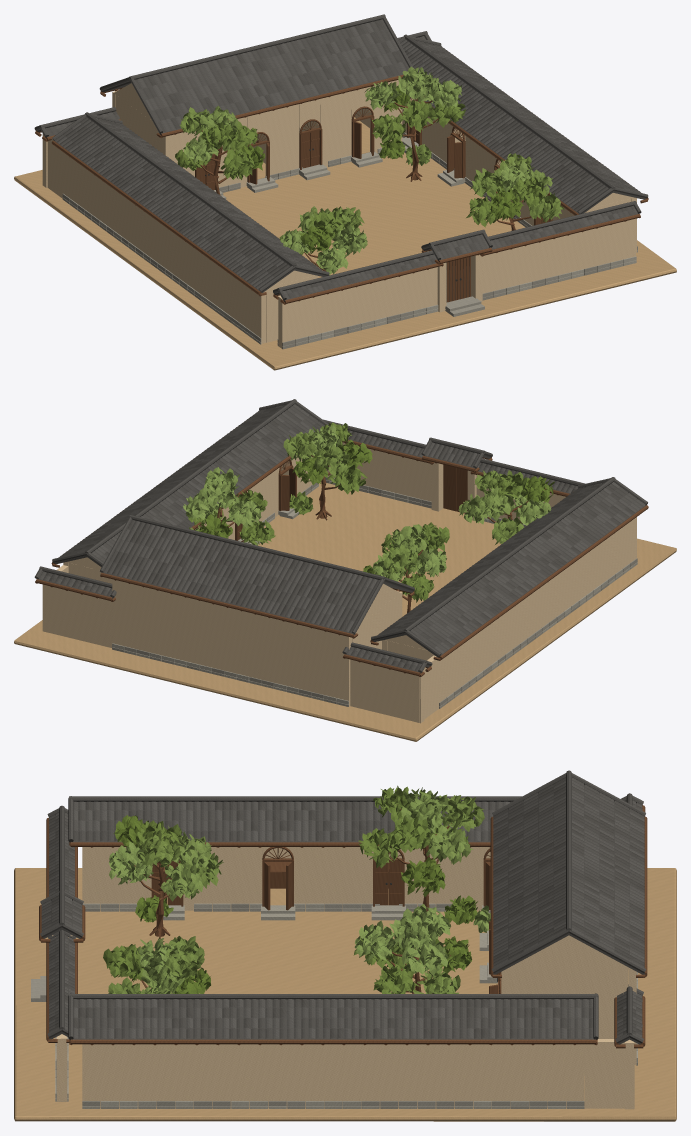
File: xibaipo-scene.glb
3 renders of one model, top to bottom at view 1: azimuth 30°, elevation 25°; view 2: azimuth 150°, elevation 25°; view 3: azimuth 270°, elevation 25°, orthographic. The views are drawn at different scales.
Parts seen in each view (by area): view 1: xibaipo-scene-complete-environment; view 2: xibaipo-scene-complete-environment; view 3: xibaipo-scene-complete-environment.
Boxes of the visible parts, x1,y1,x2,y2 form: xibaipo-scene-complete-environment: [14, 14, 676, 370]; xibaipo-scene-complete-environment: [14, 399, 676, 741]; xibaipo-scene-complete-environment: [14, 770, 676, 1121].
Bounding box in the file's own units: 0.892 × 0.2543 × 1.
Materials: 19 (19 with a texture image).
